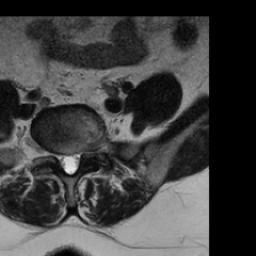CCS_normal: (65, 146, 73, 181)
LFS_stenosis: (82, 139, 93, 162)
LLS_normal: (73, 146, 82, 175)
RFS_severe_stenosis: (49, 140, 57, 162)
RLS_normal: (57, 146, 65, 175)
